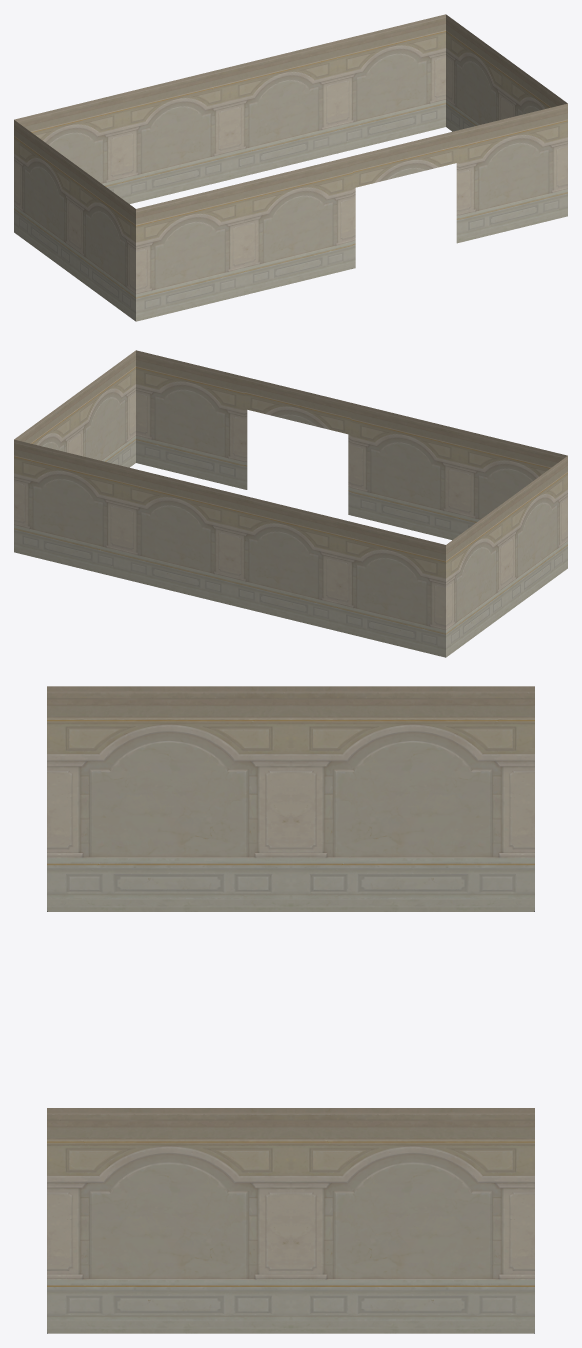
The model's file is Homeworld_Interior_Fd_Room_M_Filling_01_Vo.fbx.
3 views of the same model, one above another, from view 1: azimuth 30°, elevation 25°; view 2: azimuth 150°, elevation 25°; view 3: azimuth 270°, elevation 25° (orthographic). The views are drawn at different scales.
Parts seen in each view (by area): view 1: Homeworld_Interior_Fd_Room_M_Filling_01_Vo; view 2: Homeworld_Interior_Fd_Room_M_Filling_01_Vo; view 3: Homeworld_Interior_Fd_Room_M_Filling_01_Vo.
Boxes of the visible parts, x1,y1,x2,y2 form: Homeworld_Interior_Fd_Room_M_Filling_01_Vo: [14, 14, 567, 321]; Homeworld_Interior_Fd_Room_M_Filling_01_Vo: [14, 350, 567, 657]; Homeworld_Interior_Fd_Room_M_Filling_01_Vo: [47, 686, 534, 1333].
Size of the model in its own units: 19.96 by 4.98 by 9.77.
